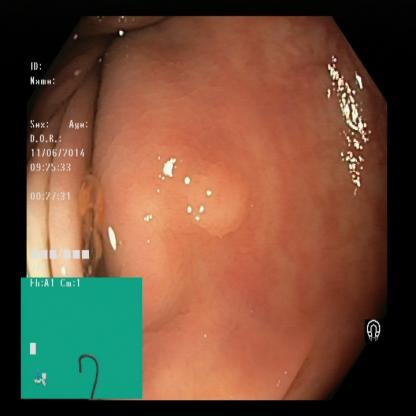Labels: (27, 57, 102, 279), (20, 278, 144, 398), (364, 312, 392, 355)
Polyps: (139, 139, 260, 267)
